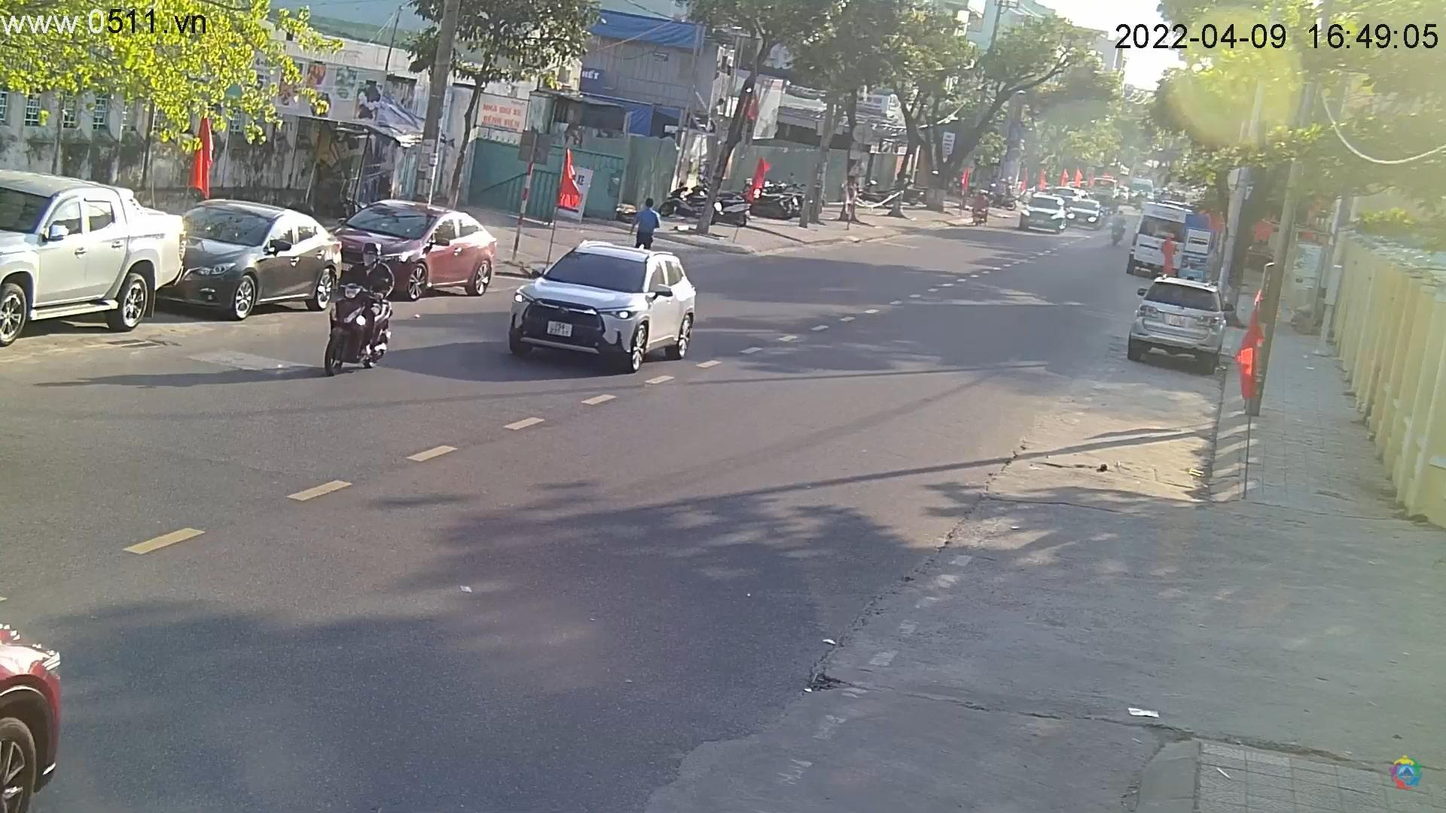car: (508, 241, 703, 373), (164, 201, 346, 321), (326, 199, 503, 300), (1019, 196, 1074, 232)
motorbike: (311, 281, 394, 380)
